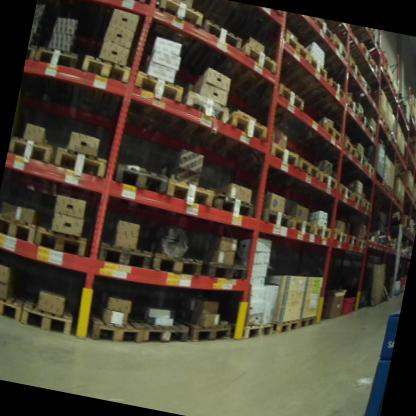pallet: (163, 78, 234, 158), (121, 64, 190, 139), (175, 11, 246, 83), (26, 38, 89, 119), (69, 50, 135, 127), (211, 96, 275, 174), (221, 35, 282, 112), (139, 0, 209, 56), (47, 139, 114, 187), (261, 29, 316, 84), (297, 107, 348, 163), (162, 167, 221, 215), (30, 217, 94, 261), (18, 293, 79, 339), (110, 157, 170, 203), (91, 232, 155, 274), (138, 310, 191, 358), (87, 307, 142, 353), (177, 311, 233, 354), (283, 50, 331, 100), (149, 242, 206, 284), (8, 121, 60, 167), (211, 183, 262, 226), (54, 0, 150, 22), (201, 251, 252, 289), (232, 3, 284, 40), (0, 206, 39, 254), (310, 74, 350, 119), (271, 77, 310, 117), (234, 311, 277, 346), (259, 203, 295, 238), (321, 32, 353, 71), (295, 17, 336, 47), (332, 52, 366, 87), (266, 140, 301, 174), (0, 284, 27, 328), (22, 36, 43, 86), (347, 39, 378, 70), (294, 150, 322, 184), (274, 310, 300, 342), (289, 214, 315, 241), (348, 77, 376, 102), (315, 169, 340, 196), (334, 177, 357, 206), (350, 25, 380, 47), (307, 221, 334, 245), (297, 310, 321, 336), (340, 93, 364, 119), (361, 62, 384, 85), (341, 138, 360, 162), (355, 107, 372, 133), (35, 0, 58, 17), (374, 55, 390, 79), (331, 225, 348, 247), (359, 197, 375, 217), (355, 234, 370, 254), (363, 159, 378, 179), (365, 122, 379, 142), (381, 70, 395, 90), (354, 151, 368, 170), (345, 232, 359, 249), (350, 193, 365, 207), (375, 113, 388, 129), (375, 173, 384, 186)
small_load_carrier: (339, 290, 357, 317)
